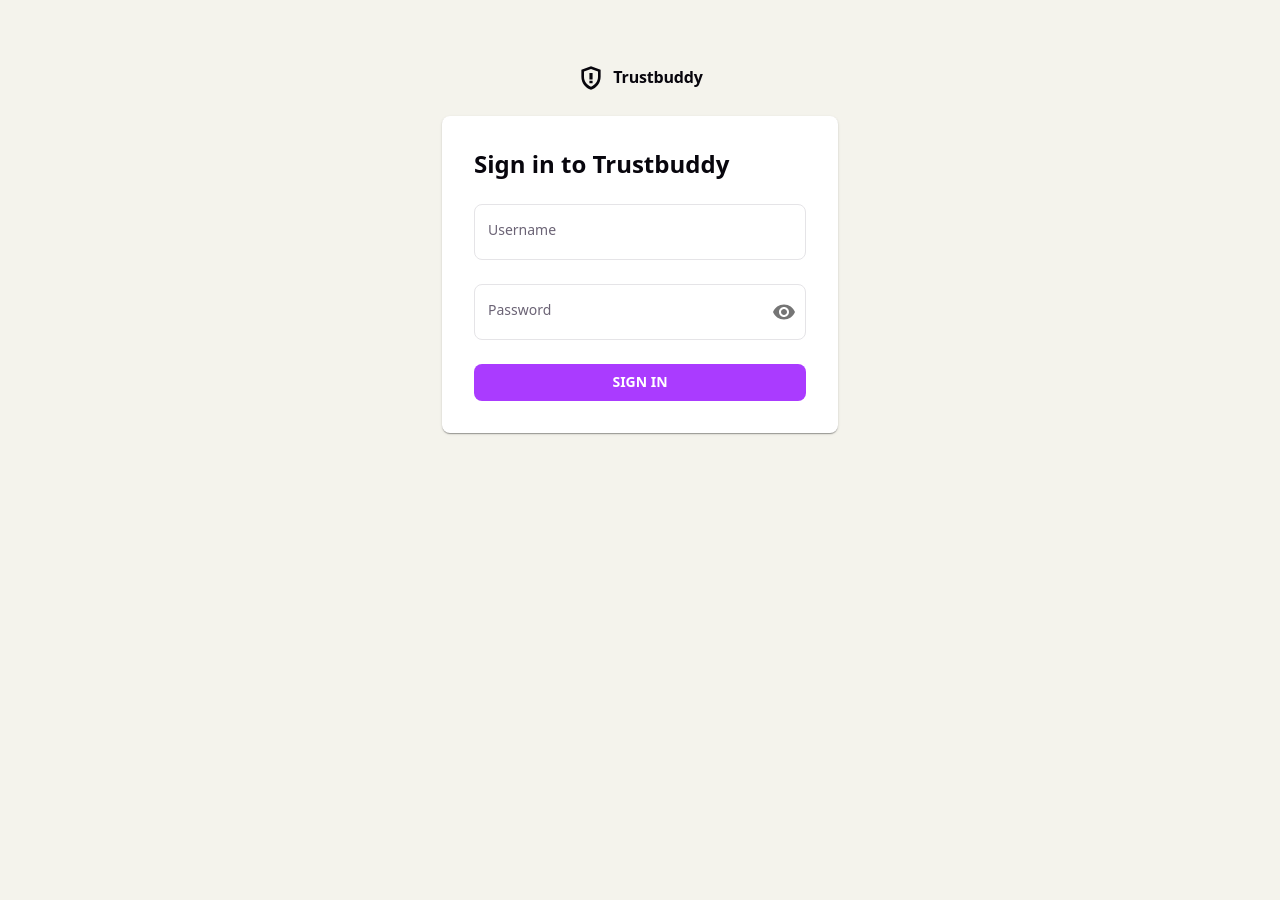
Scenario: auth routes › given_guest_when_visitsWizardWithQuoteId_then_loginReturnIncludesSearch
Check: the heading "Sign in to Trustbuddy" is shown, box left=474, top=147, right=729, bottom=180
Type "agent" into the field labelled "Username".
click(640, 232); type("agent")  # box left=474, top=204, right=806, bottom=260
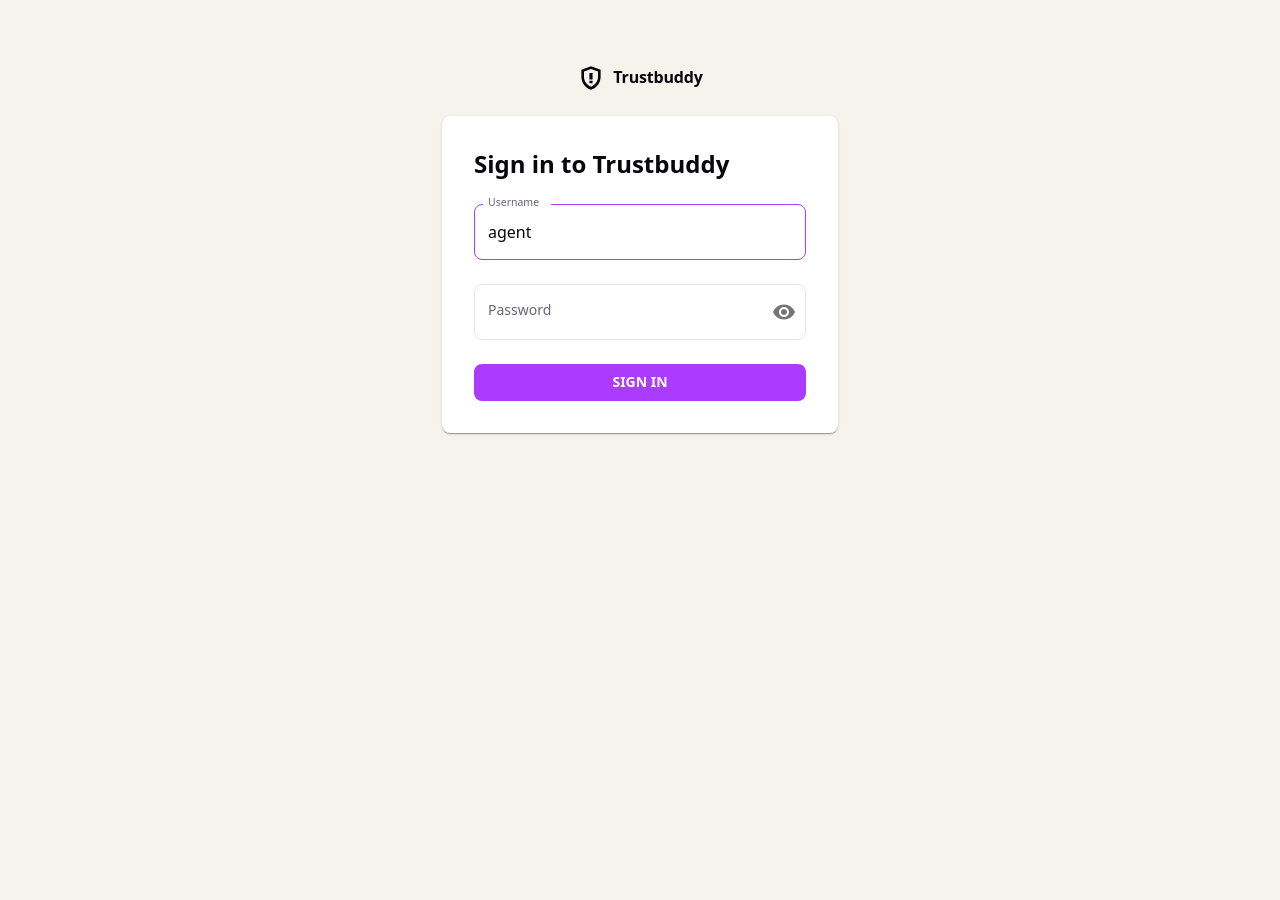
Type "secret" into the password field labelled "Password".
click(615, 312); type("secret")  # box left=474, top=284, right=756, bottom=340
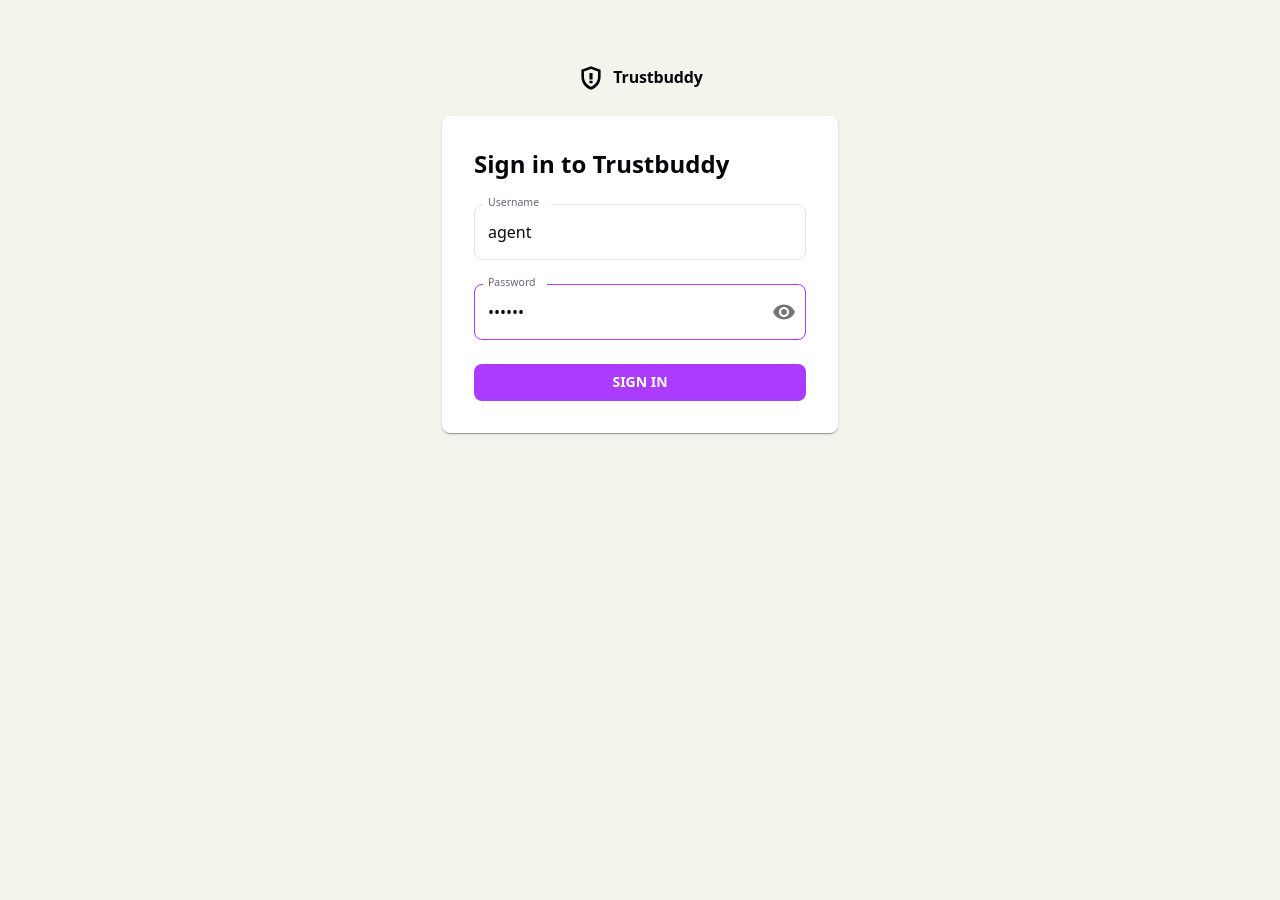
Click the button "Sign in".
click(640, 382)  # box left=474, top=364, right=806, bottom=400
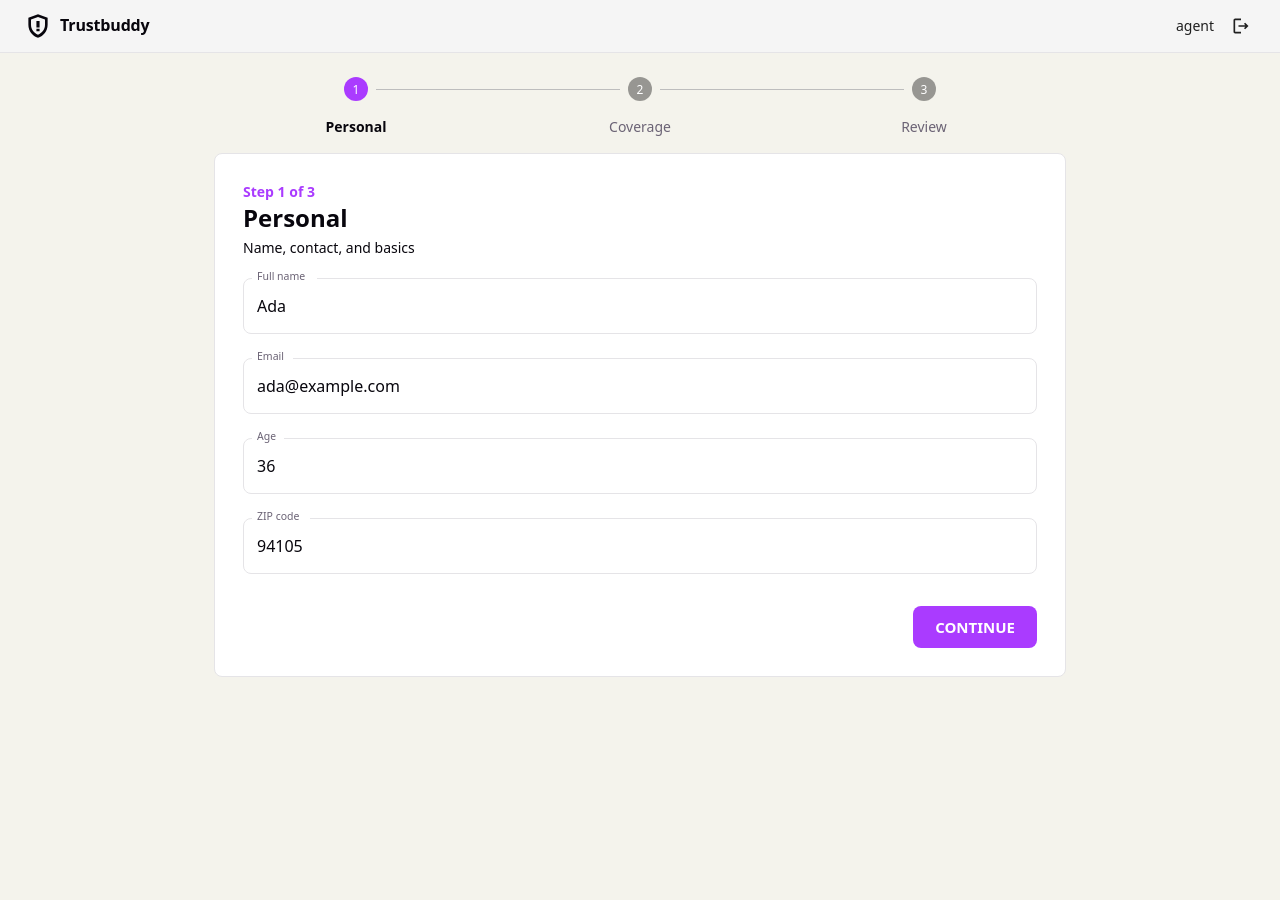
Check: the heading "Personal" is shown, box left=243, top=201, right=348, bottom=234
